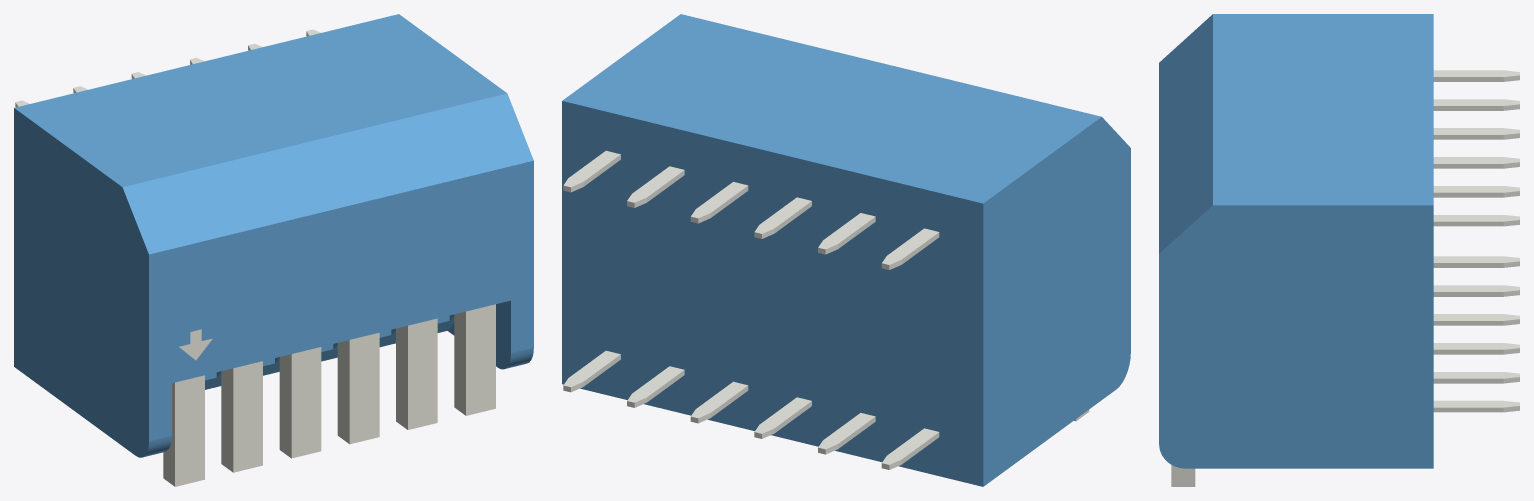
The model's file is SW_DIP_SPSTx06_Piano_10.8x16.8mm_W7.62mm_P2.54mm.glb.
3 views of the same model, side by side, from view 1: azimuth 30°, elevation 25°; view 2: azimuth 150°, elevation 25°; view 3: azimuth 270°, elevation 25° (orthographic). The views are drawn at different scales.
Visible parts, largest first — view 1: Shape_IndexedFaceSet.001, Shape_IndexedFaceSet.005, Shape_IndexedFaceSet.008, Shape_IndexedFaceSet.003, Shape_IndexedFaceSet.085, Shape_IndexedFaceSet.088, Shape_IndexedFaceSet.065, Shape_IndexedFaceSet.068, Shape_IndexedFaceSet.075, Shape_IndexedFaceSet.078, Shape_IndexedFaceSet.076, Shape_IndexedFaceSet.086 (+6 smaller); view 2: Shape_IndexedFaceSet.006, Shape_IndexedFaceSet.005, Shape_IndexedFaceSet.008, Shape_IndexedFaceSet.025, Shape_IndexedFaceSet.039, Shape_IndexedFaceSet.029, Shape_IndexedFaceSet.021, Shape_IndexedFaceSet.015, Shape_IndexedFaceSet.043, Shape_IndexedFaceSet.048, Shape_IndexedFaceSet.051, Shape_IndexedFaceSet.061 (+3 smaller); view 3: Shape_IndexedFaceSet, Shape_IndexedFaceSet.005, Shape_IndexedFaceSet.003, Shape_IndexedFaceSet.015, Shape_IndexedFaceSet.025, Shape_IndexedFaceSet.031, Shape_IndexedFaceSet.021, Shape_IndexedFaceSet.029, Shape_IndexedFaceSet.034, Shape_IndexedFaceSet.048, Shape_IndexedFaceSet.051, Shape_IndexedFaceSet.061 (+9 smaller).
Part boxes in pixels (box(x1,y1,x2,y2)): Shape_IndexedFaceSet.001: box(149, 160, 533, 441); Shape_IndexedFaceSet.005: box(14, 14, 506, 187); Shape_IndexedFaceSet.008: box(14, 108, 148, 457); Shape_IndexedFaceSet.003: box(122, 93, 533, 254); Shape_IndexedFaceSet.085: box(349, 332, 379, 444); Shape_IndexedFaceSet.088: box(291, 347, 321, 458); Shape_IndexedFaceSet.065: box(466, 304, 495, 415); Shape_IndexedFaceSet.068: box(175, 375, 204, 486); Shape_IndexedFaceSet.075: box(408, 318, 437, 429); Shape_IndexedFaceSet.078: box(233, 361, 262, 472); Shape_IndexedFaceSet.076: box(221, 368, 233, 472); Shape_IndexedFaceSet.086: box(279, 354, 291, 458); Shape_IndexedFaceSet.006: box(562, 101, 983, 486); Shape_IndexedFaceSet.005: box(562, 14, 1101, 203); Shape_IndexedFaceSet.008: box(983, 117, 1130, 486); Shape_IndexedFaceSet.025: box(754, 397, 811, 433); Shape_IndexedFaceSet.039: box(563, 150, 620, 187); Shape_IndexedFaceSet.029: box(691, 381, 747, 418); Shape_IndexedFaceSet.021: box(627, 366, 684, 402); Shape_IndexedFaceSet.015: box(563, 350, 620, 387); Shape_IndexedFaceSet.043: box(627, 166, 683, 202); Shape_IndexedFaceSet.048: box(818, 413, 875, 449); Shape_IndexedFaceSet.051: box(818, 213, 875, 249); Shape_IndexedFaceSet.061: box(882, 428, 938, 464); Shape_IndexedFaceSet: box(1159, 205, 1433, 468); Shape_IndexedFaceSet.005: box(1213, 14, 1433, 205); Shape_IndexedFaceSet.003: box(1159, 14, 1212, 253); Shape_IndexedFaceSet.015: box(1433, 400, 1519, 407); Shape_IndexedFaceSet.025: box(1433, 314, 1519, 320); Shape_IndexedFaceSet.031: box(1433, 128, 1519, 134); Shape_IndexedFaceSet.021: box(1433, 372, 1519, 378); Shape_IndexedFaceSet.029: box(1433, 343, 1519, 349); Shape_IndexedFaceSet.034: box(1433, 157, 1519, 163); Shape_IndexedFaceSet.048: box(1433, 285, 1519, 291); Shape_IndexedFaceSet.051: box(1433, 99, 1519, 105); Shape_IndexedFaceSet.061: box(1433, 256, 1519, 262).
Bounding box in the file's own units: 6.61 × 4.8 × 5.28.
